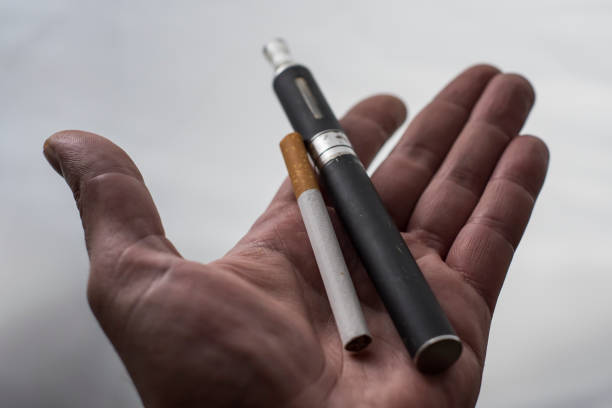cigarette: (262, 32, 463, 379), (280, 132, 367, 357)
